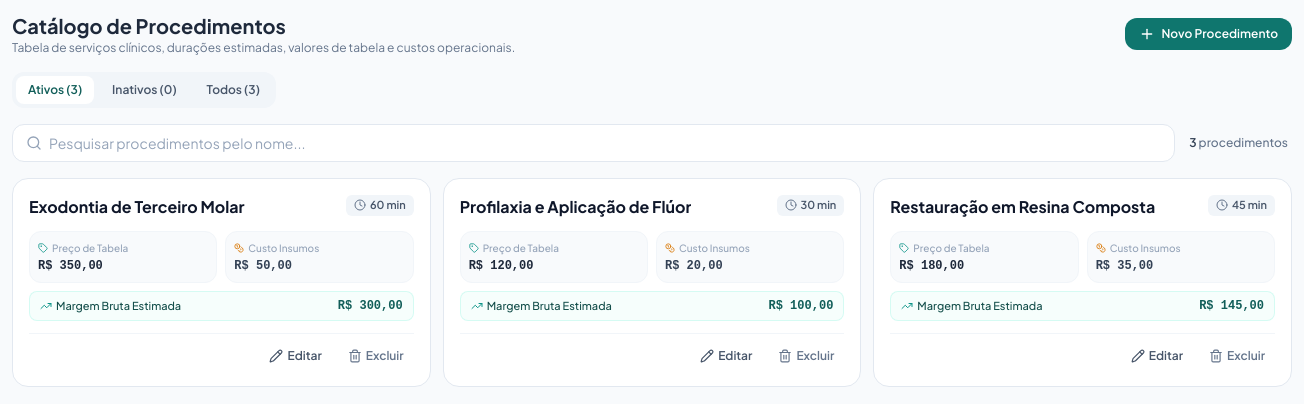
Test: Feature: Gestão do Catálogo de Procedimentos e Serviços (F-06) › AC-239: Visualização, contadores e busca reativa por nome de procedimentos @spec:AC-239
Expected: the text with test id "procedure-count" reads "3", [1189,135,1196,150]
Expected: the element with test id "procedure-card-proc-1" shows "Restauração em Resina Composta", [890,196,1155,217]
Note: Busca reativa: filtra digitando "Profilaxia"
Type "profilaxia" into the field with test id "input-search-procedures" at (594, 143), box [12,124,1175,162]
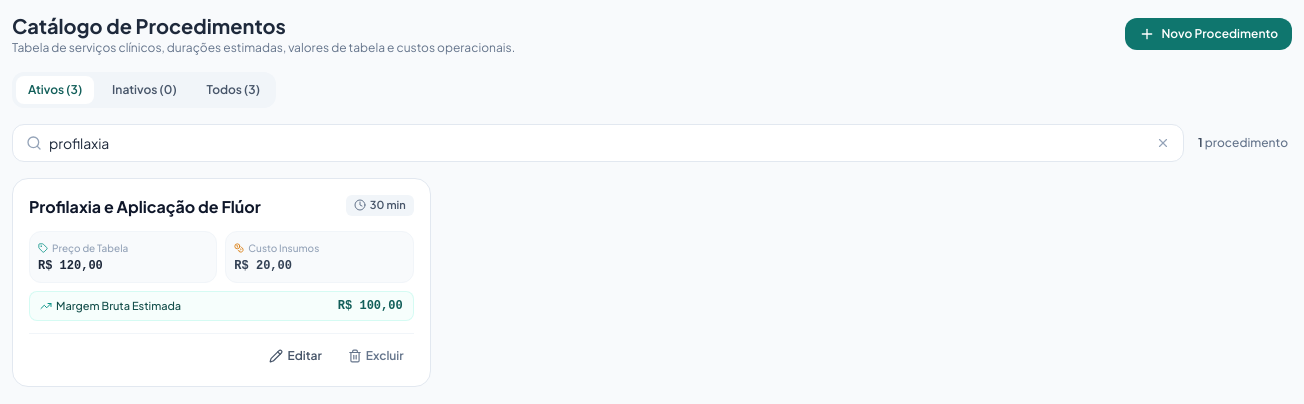
Result: the element with test id "procedure-card-proc-1" is gone
Result: the element with test id "procedure-card-proc-3" is gone
Result: the text with test id "procedure-count" reads "1" at [1198,135,1203,150]
